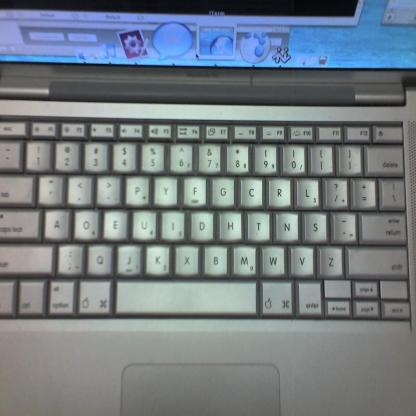board: (2, 0, 416, 390)
